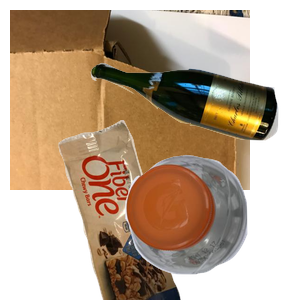cardboard: (10, 10, 250, 190)
glass: (88, 60, 300, 193)
plastic: (123, 152, 300, 300)
trash: (56, 120, 229, 300)
